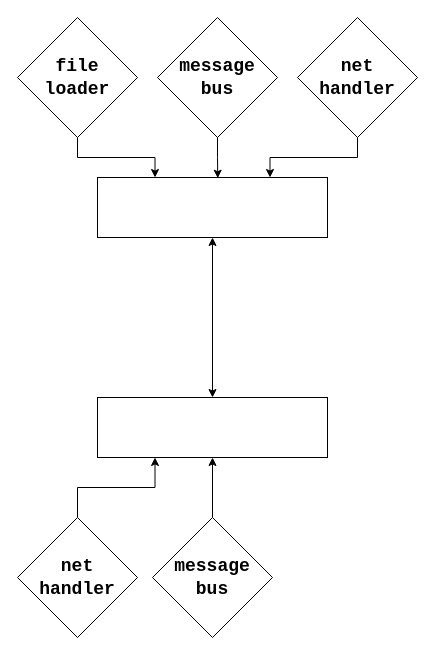
Image size: 435x655. Some labels were removed from this diagram. Here are the shapes that lost their labels. From the top down, the centre of each, then its label:
At (x=212, y=207): "glyph-client".
At (x=212, y=427): "glyph-server".
